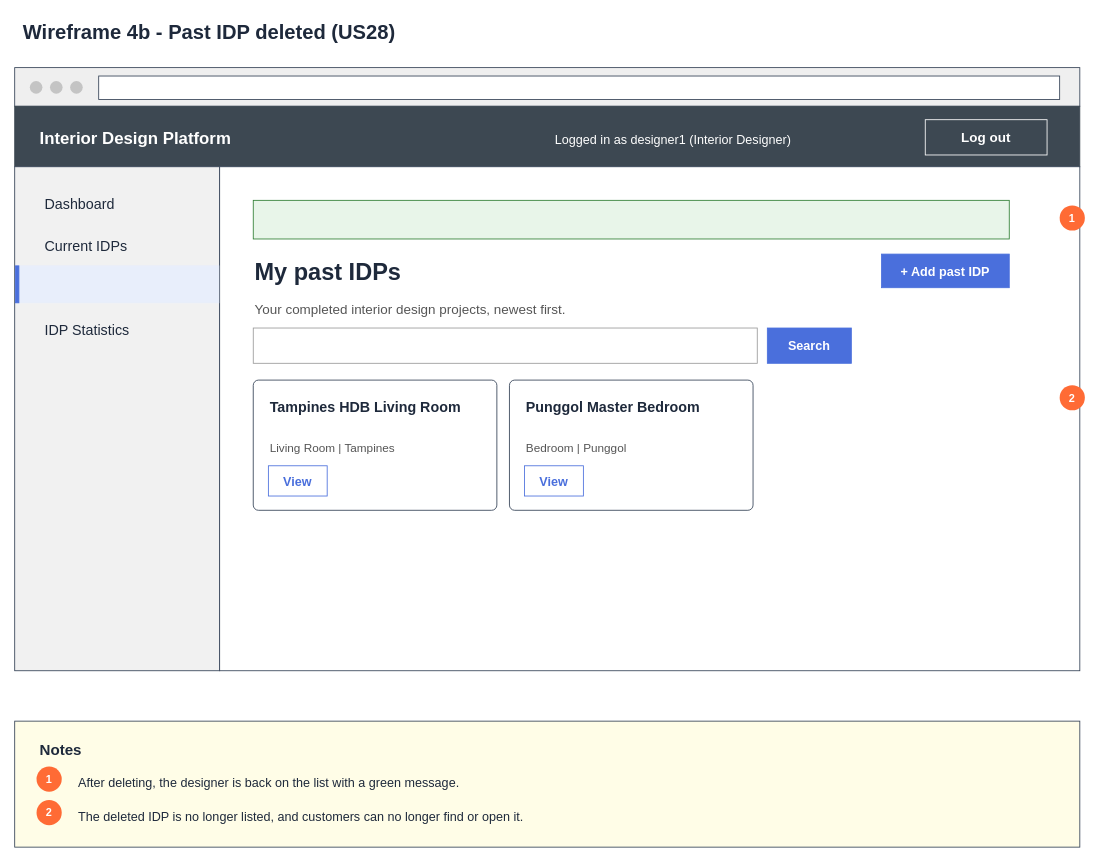
The diagram is 1100 pixels wide and 862 high, and some of its shapes have lost their labels. The shapes that lost their labels are listed below. From the top down, each one's centre as x and y in pixels, then its label:
(579,87): localhost:5000/designer/past-idps
(630,219): Past IDP deleted successfully
(117,284): Past IDPs
(504,345): Search by title, description, location or category
